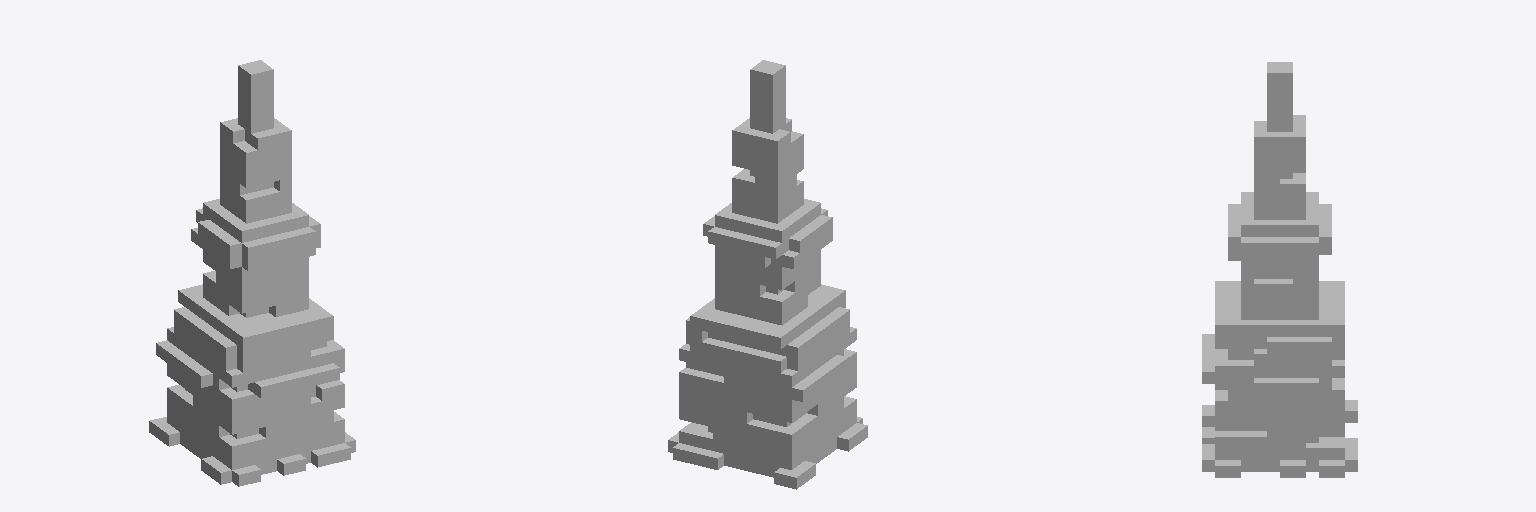
File: tower.obj
3 renders of one model, left to right at view 1: azimuth 30°, elevation 25°; view 2: azimuth 150°, elevation 25°; view 3: azimuth 270°, elevation 25°, orthographic.
Visible parts, largest first — view 1: object 1; view 2: object 1; view 3: object 1.
Boxes of the visible parts, x1=… form: object 1: x1=149, y1=60, x2=355, y2=486; object 1: x1=668, y1=60, x2=867, y2=489; object 1: x1=1202, y1=62, x2=1357, y2=477.
Size of the model in its own units: 1.2 by 3.2 by 1.2.